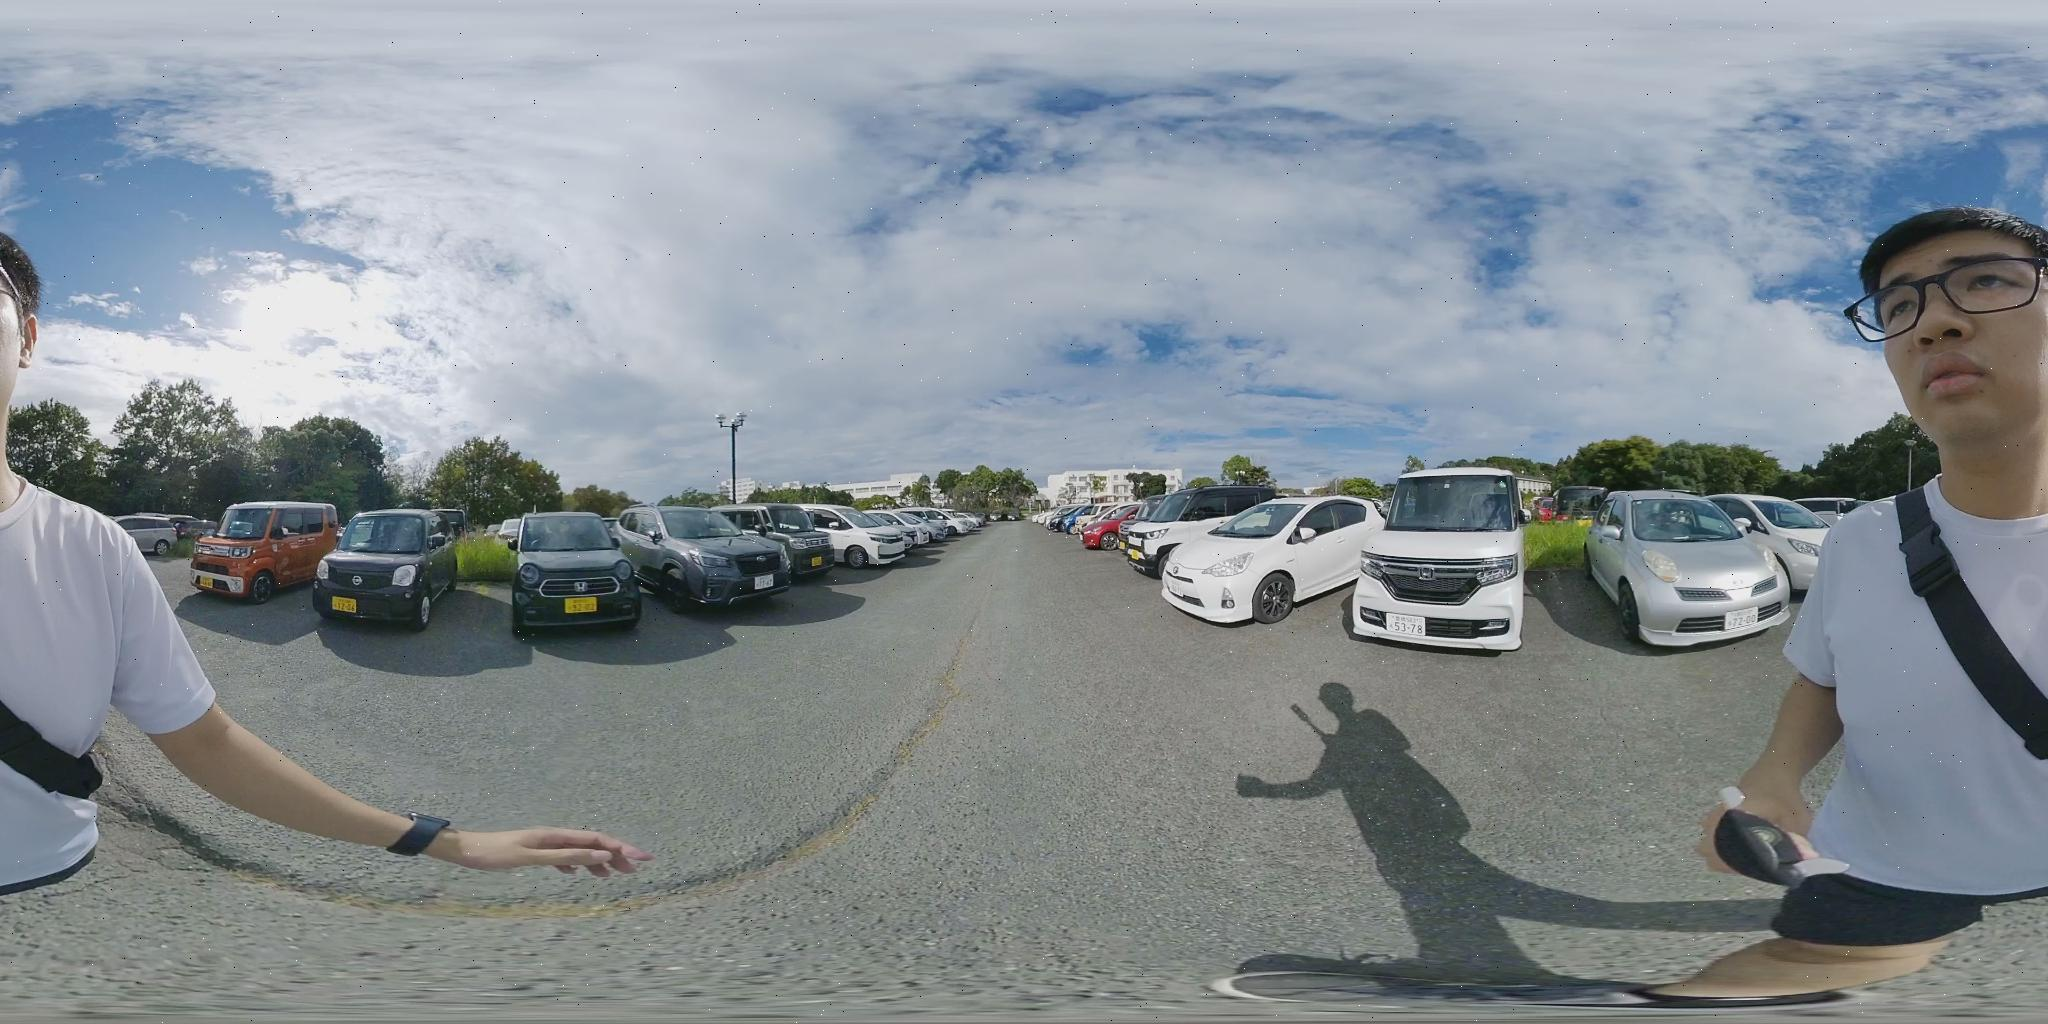car: (1558, 488, 1818, 648), (1357, 468, 1523, 661), (1153, 499, 1387, 630), (615, 509, 811, 606), (1114, 485, 1287, 572), (196, 502, 338, 602), (320, 512, 452, 620), (516, 515, 636, 630), (780, 509, 912, 569), (737, 504, 859, 568), (1707, 492, 1834, 549), (111, 512, 205, 552), (1075, 508, 1140, 552), (1046, 505, 1096, 530)
